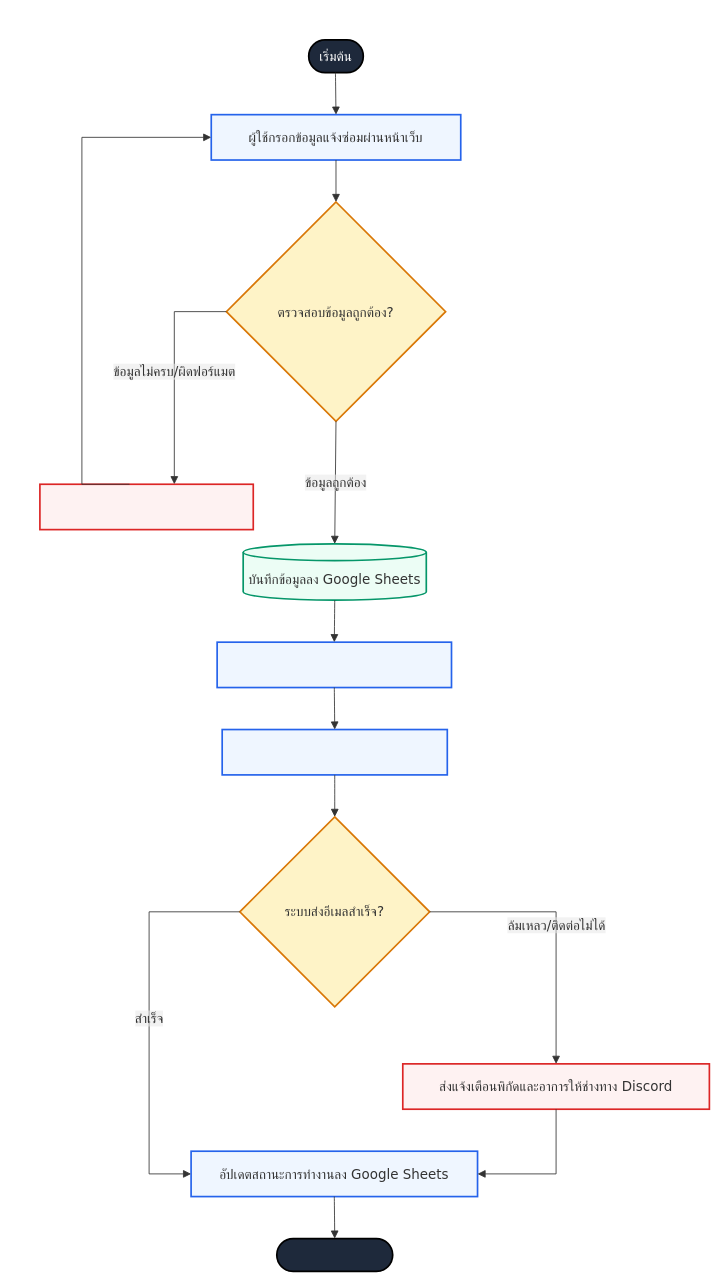
Some shapes in this 724 by 1286 pixel diagram are drawn without their labels. The centre of each missing label's shape, as x and y in pixels:
"บอท UiPath อ่านข้อมูลจากตาราง และแจ้งช่างในDiscord" belongs at (334,664).
"บอทส่งอีเมลแจ้งสถานะให้ลูกค้า" belongs at (334,751).
"สิ้นสุดกระบวนการ" belongs at (334,1254).
"แจ้งเตือนให้ผู้ใช้แก้ไขหน้าเว็บ" belongs at (146,506).
